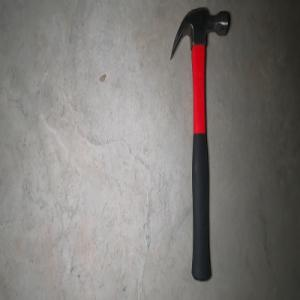Hammer: (169, 5, 230, 282)
